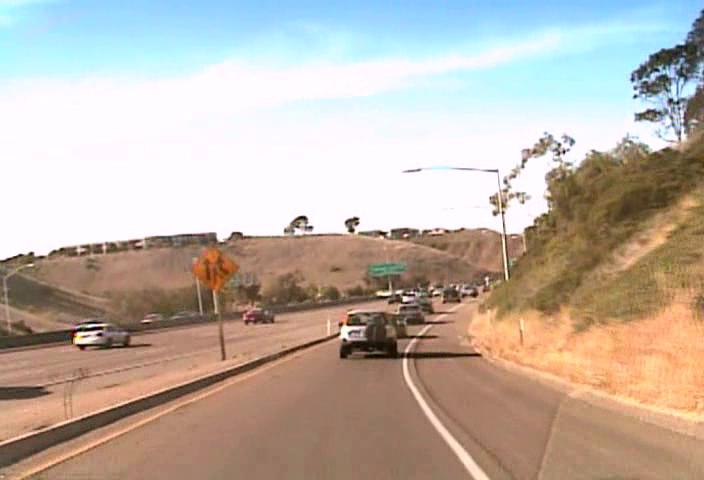addedLane: (189, 243, 240, 293)
